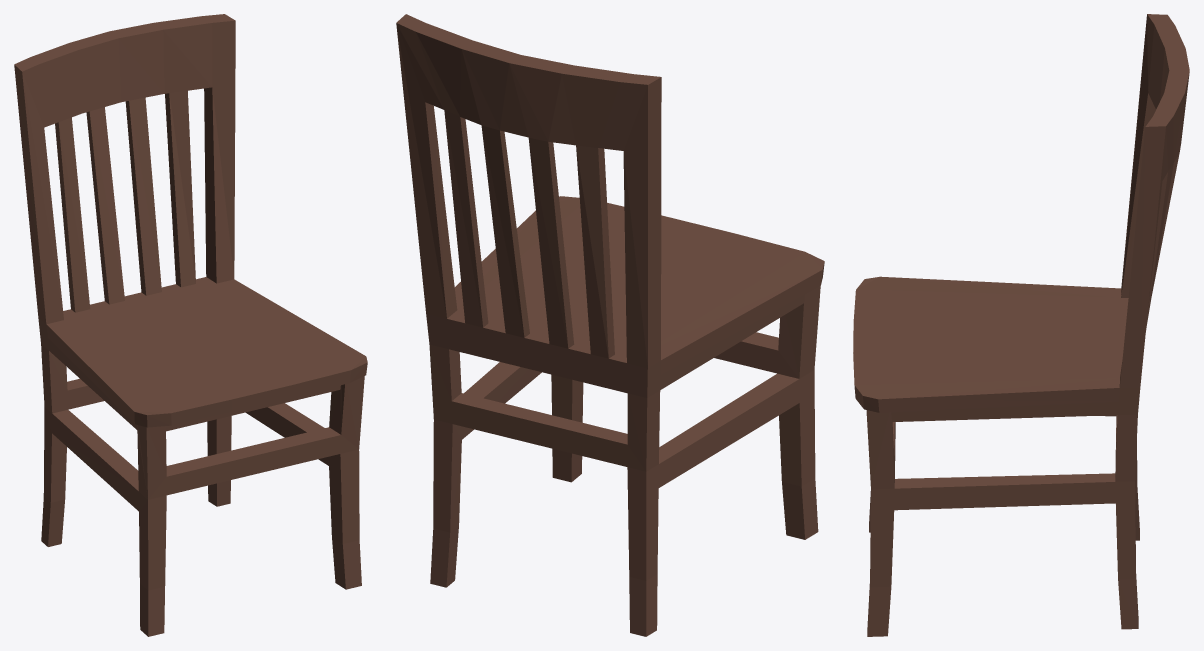
File: WoodChair.gltf
3 renders of one model, left to right at view 1: azimuth 30°, elevation 25°; view 2: azimuth 150°, elevation 25°; view 3: azimuth 270°, elevation 25°, orthographic. The views are drawn at different scales.
Visible parts, largest first — view 1: node-0; view 2: node-0; view 3: node-0.
Part boxes in pixels (x1,y1,x2,y2): node-0: [14, 14, 367, 636]; node-0: [396, 14, 824, 636]; node-0: [853, 14, 1189, 636].
Bounding box in the file's own units: 0.5129 × 1 × 0.5968.
